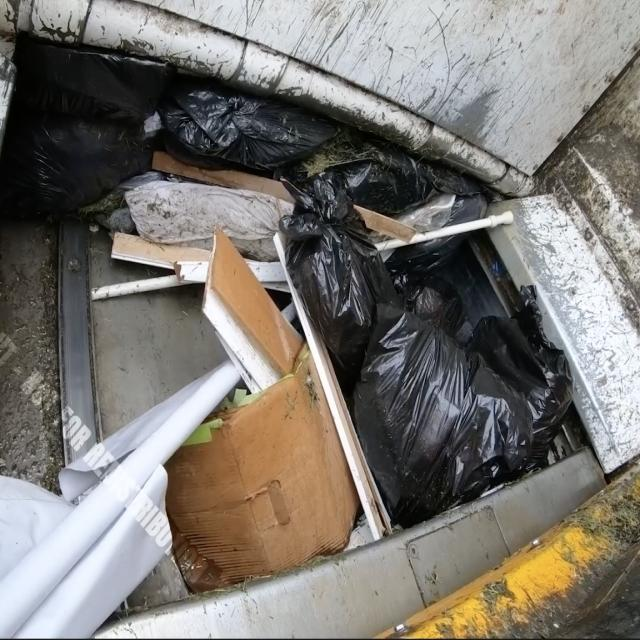bag: (296, 174, 563, 516), (0, 76, 151, 230), (125, 76, 368, 164)
cardboard: (93, 232, 357, 599)
